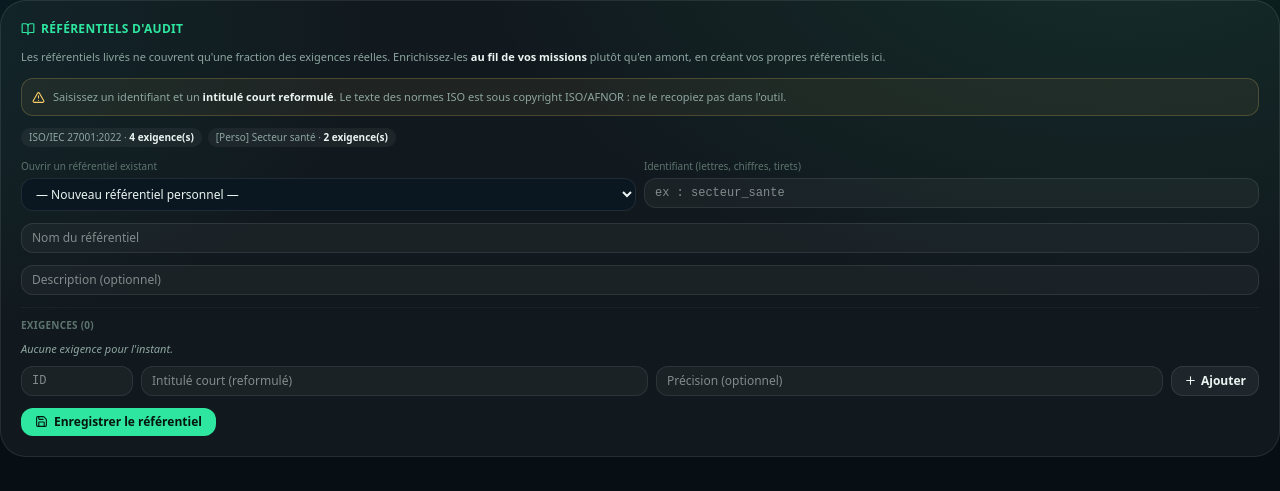
ReferentielsPanel › refuse une exigence en doublon
Select "[Perso] Secteur santé" in the dropdown named "Référentiel à ouvrir" at (328, 194), box [21, 178, 636, 211]
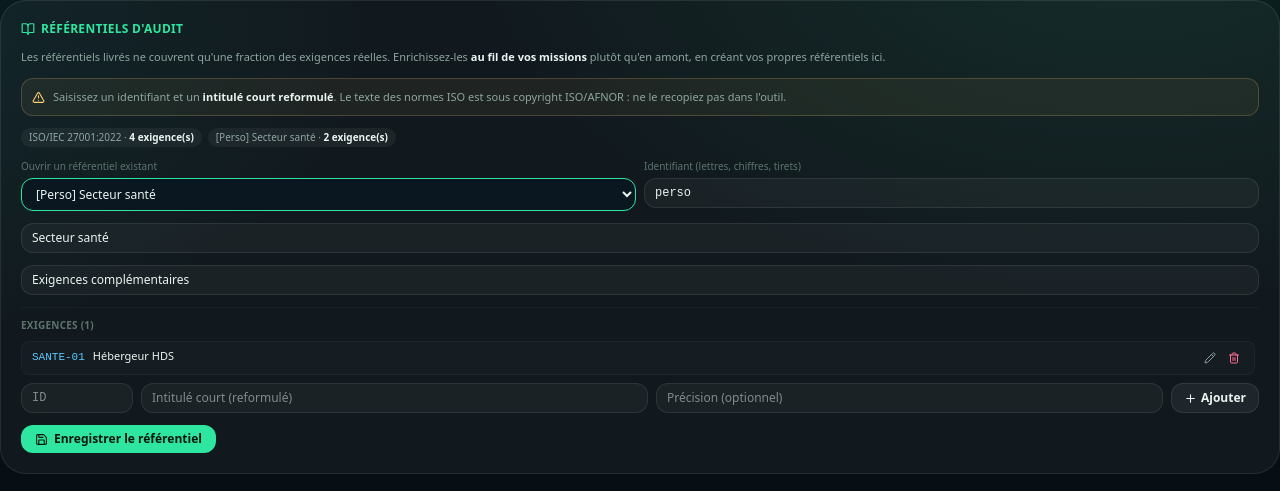
Now the text "SANTE-01" is shown, box [32, 351, 85, 363]
Type "SANTE-01" into the field named "Identifiant de l'exigence" at (77, 398), box [21, 383, 133, 413]
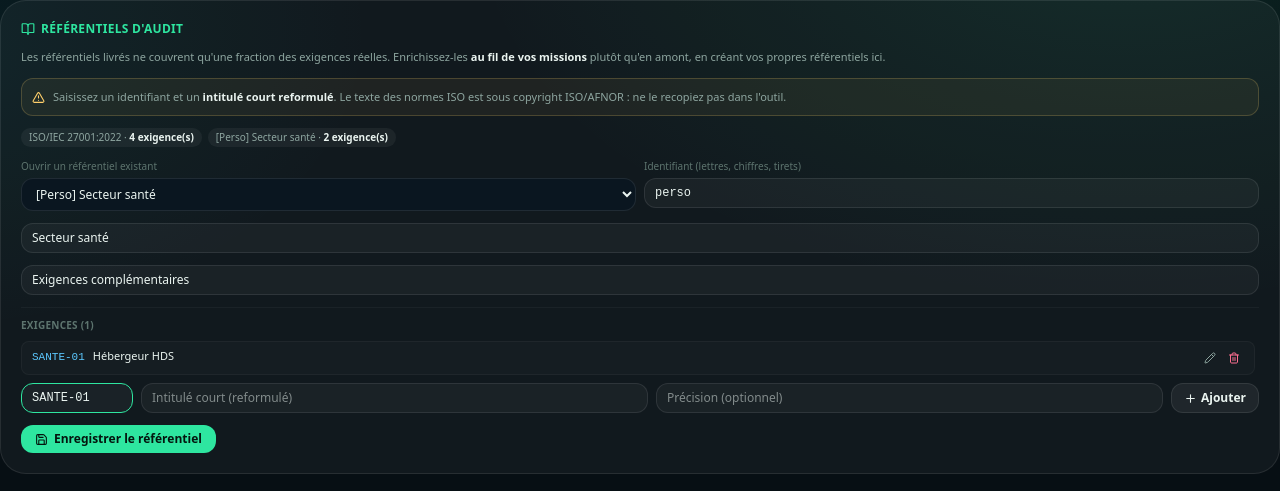
Type "Doublon" into the field named "Intitulé de l'exigence" at (394, 398), box [141, 383, 648, 413]
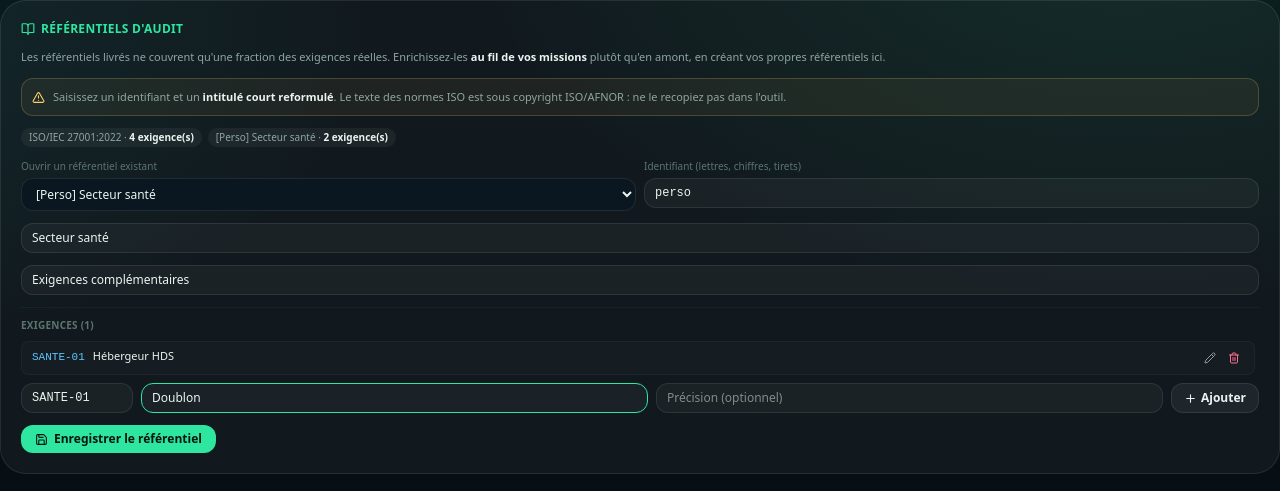
Click the button "Ajouter" at (1215, 398), box [1171, 383, 1259, 413]
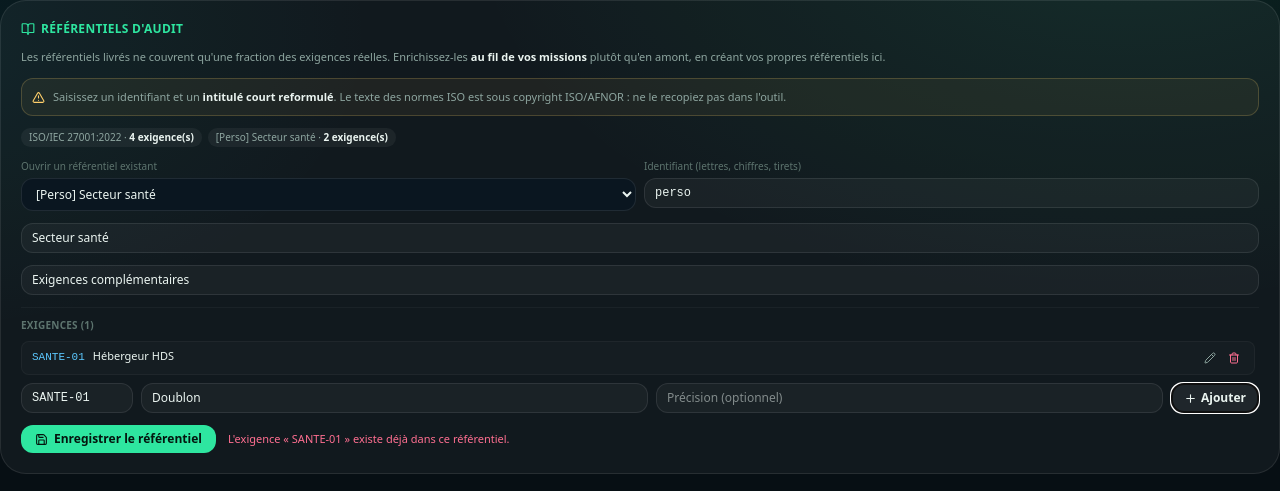
Now the text "L'exigence « SANTE-01 » existe déjà dans ce référentiel." is shown, box [228, 431, 510, 447]
